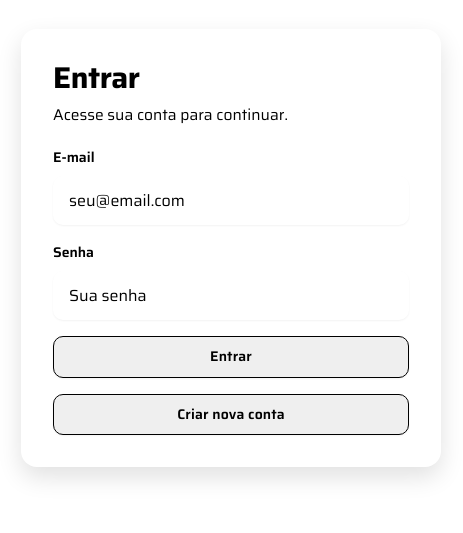
Login - integration auth flow › shows signup success notice and switches back to signin mode
Click the button "Criar nova conta". click: coordinates (231, 414)
box: [53,394,409,435]
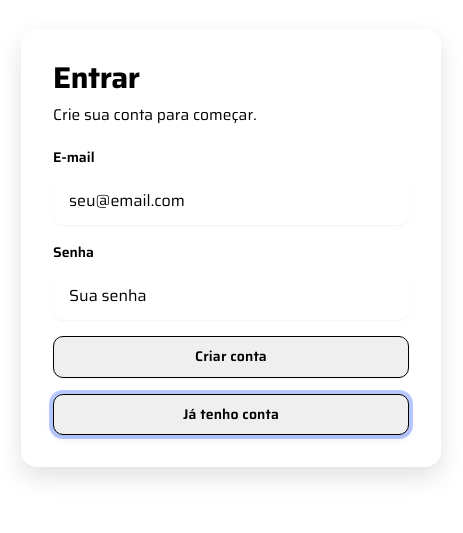
Type "  new.user@test.com " into the field labelled "E-mail". click: coordinates (231, 201)
box: [53,176,409,225]
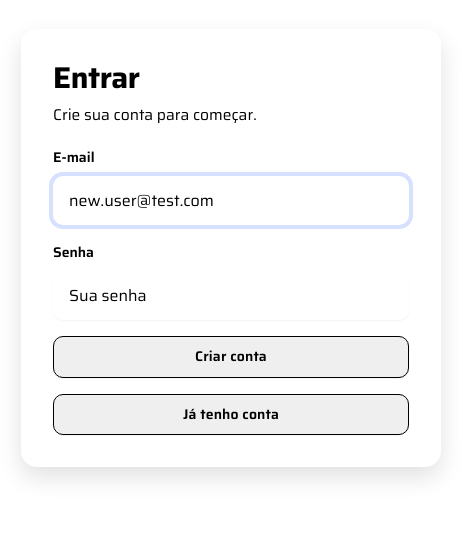
Type "Pass1234" into the password field labelled "Senha". click: coordinates (231, 296)
box: [53,271,409,320]
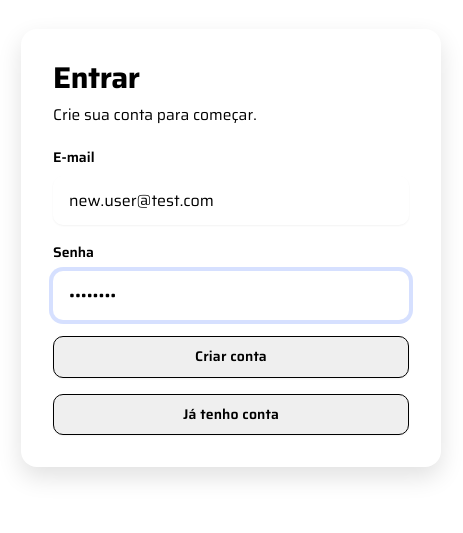
Click the button "Criar conta". click: coordinates (231, 357)
box: [53,336,409,378]
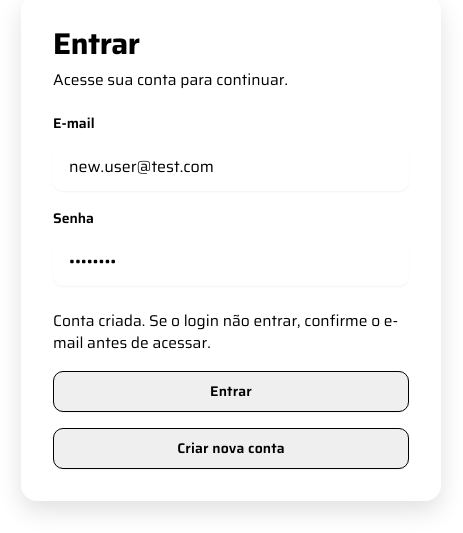
Now the text "Conta criada. Se o login não entrar, confirme o e-mail antes de acessar." is shown, box [53,310,409,355]
Now the button "Entrar" is shown, box [53,371,409,412]
